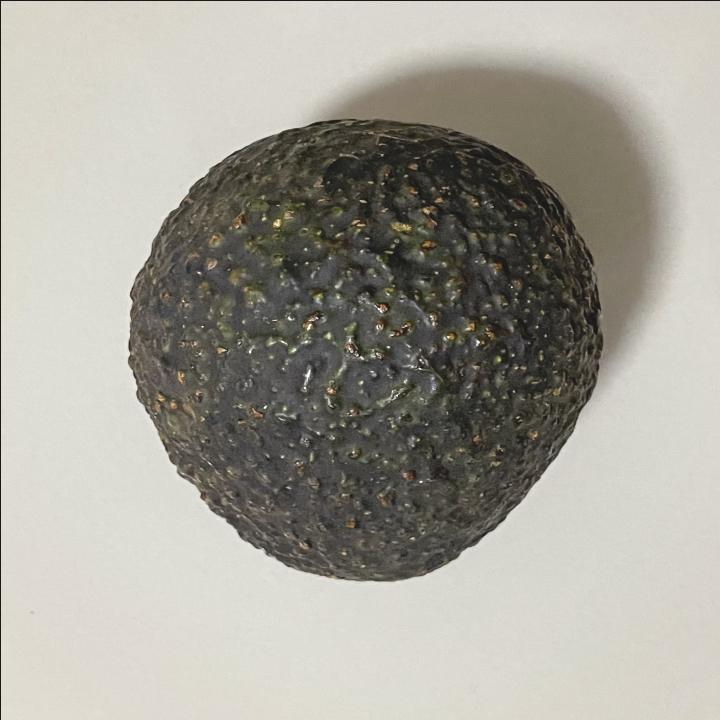Level1: (105, 109, 613, 595)
